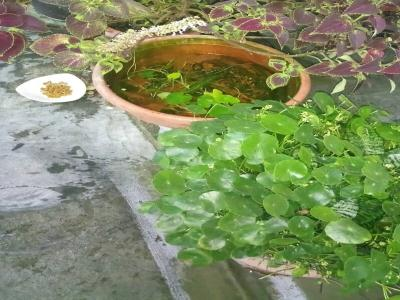bowl: (88, 31, 313, 130)
plate: (14, 69, 88, 106)
